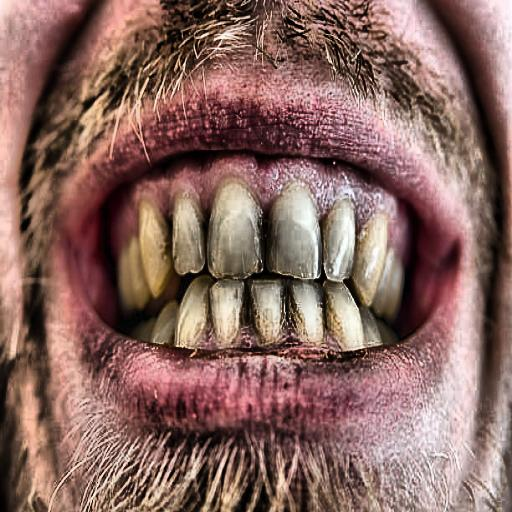Calculus: (115, 173, 407, 376)
